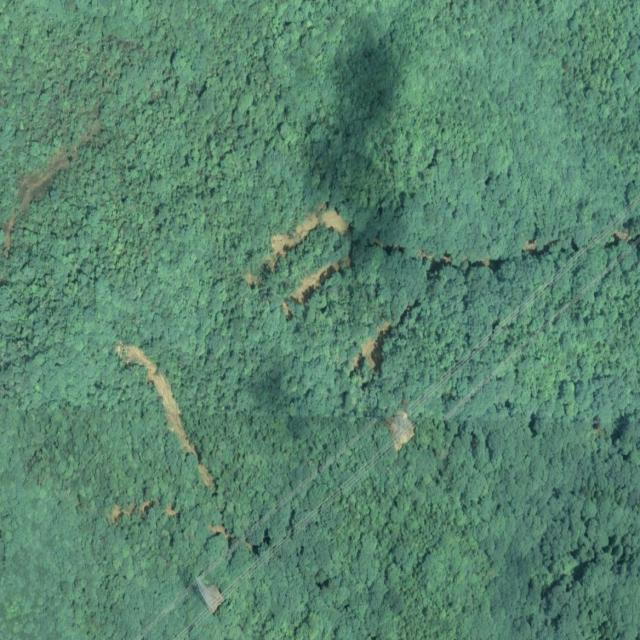landslide: (115, 342, 213, 489), (245, 203, 350, 287), (289, 257, 351, 303), (351, 323, 392, 371)
